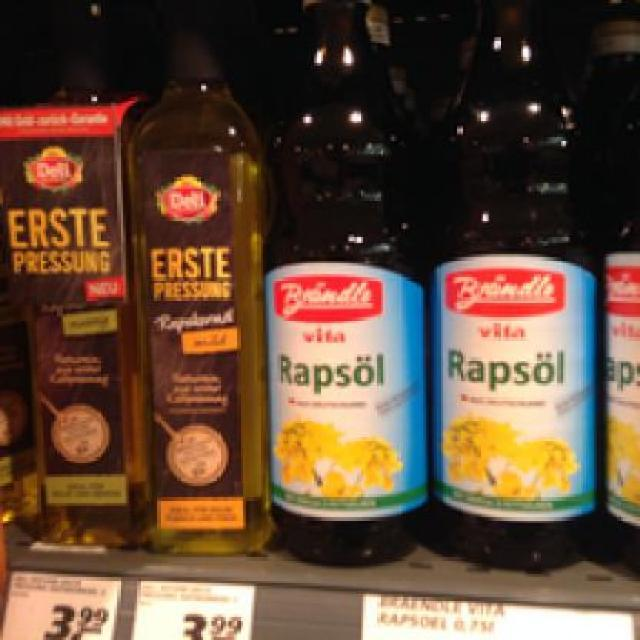Oil: (428, 0, 604, 566), (257, 0, 432, 563), (120, 6, 269, 563), (12, 14, 138, 543)
